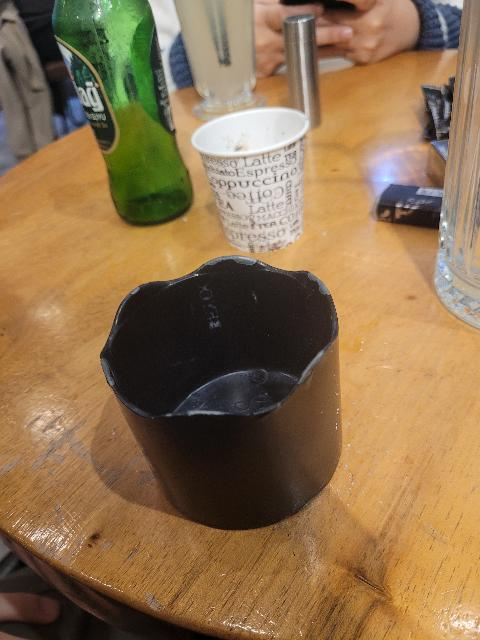Cam: (46, 0, 202, 228), (430, 0, 480, 340), (175, 0, 260, 110)
Kagit: (182, 105, 322, 262)
Metal: (109, 260, 354, 536)
